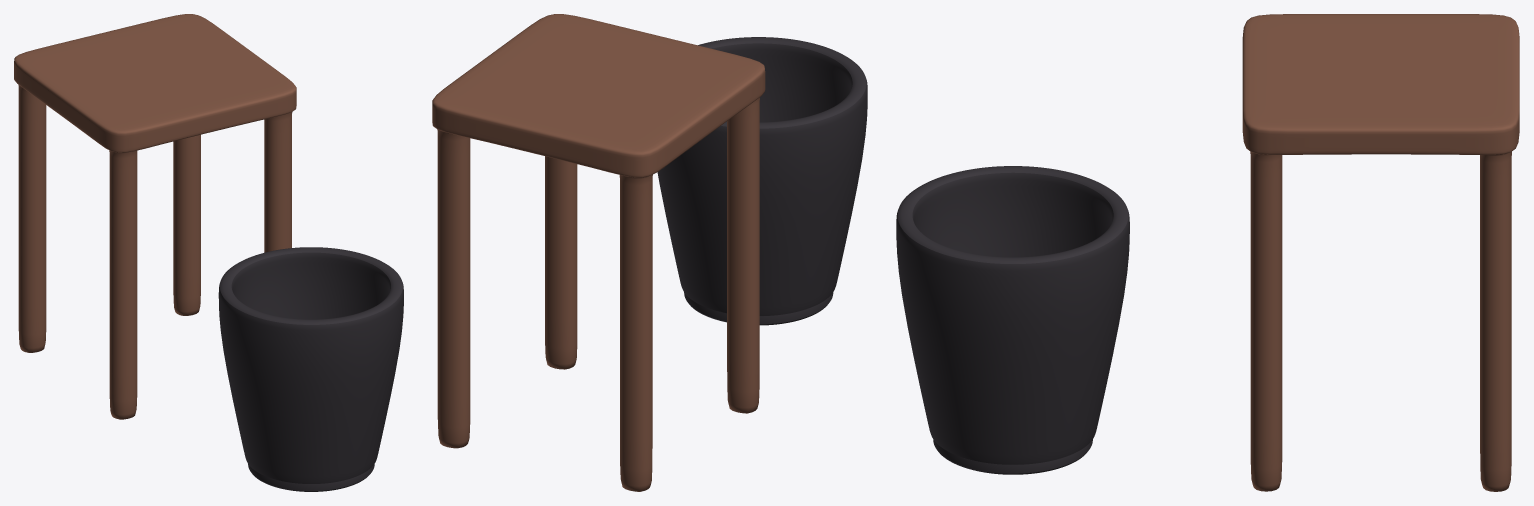
3 renders of one model, left to right at view 1: azimuth 30°, elevation 25°; view 2: azimuth 150°, elevation 25°; view 3: azimuth 270°, elevation 25°, orthographic. The views are drawn at different scales.
Parts seen in each view (by area): view 1: Cube, Circle; view 2: Cube, Circle; view 3: Cube, Circle.
Boxes of the visible parts, x1,y1,x2,y2 form: Cube: [14, 14, 296, 419]; Circle: [218, 247, 403, 491]; Cube: [432, 14, 765, 491]; Circle: [657, 37, 867, 325]; Cube: [1242, 14, 1519, 491]; Circle: [896, 166, 1129, 474].
Bounding box in the file's own units: 200 × 293 × 450.
